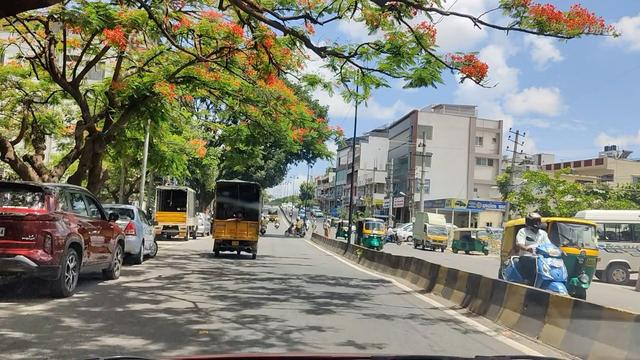HMV: (200, 170, 265, 256)
LMV: (5, 182, 107, 287)
